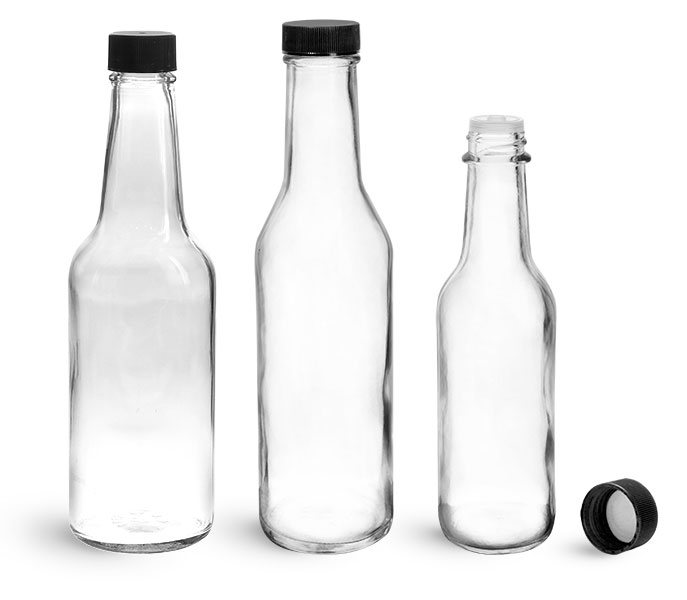glass_bottle: (64, 28, 222, 558), (253, 16, 399, 559), (433, 113, 562, 558)
